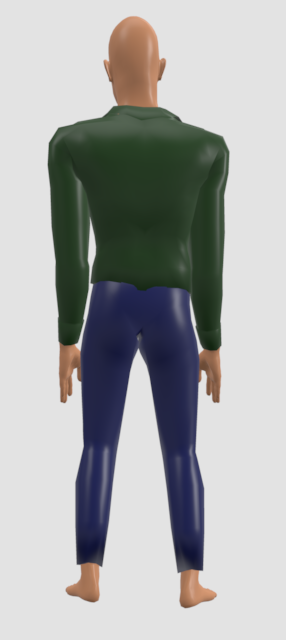victim: (48, 17, 222, 606)
